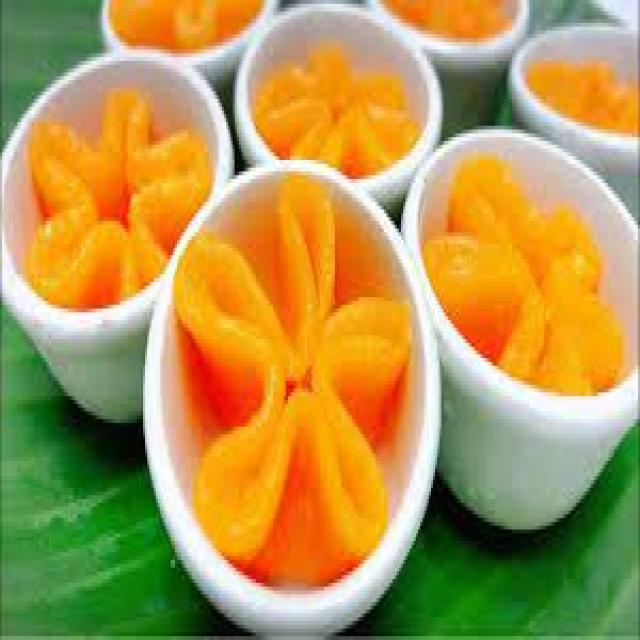Tongyib: (177, 193, 401, 611), (432, 152, 634, 398), (27, 79, 206, 314), (263, 18, 433, 196)
